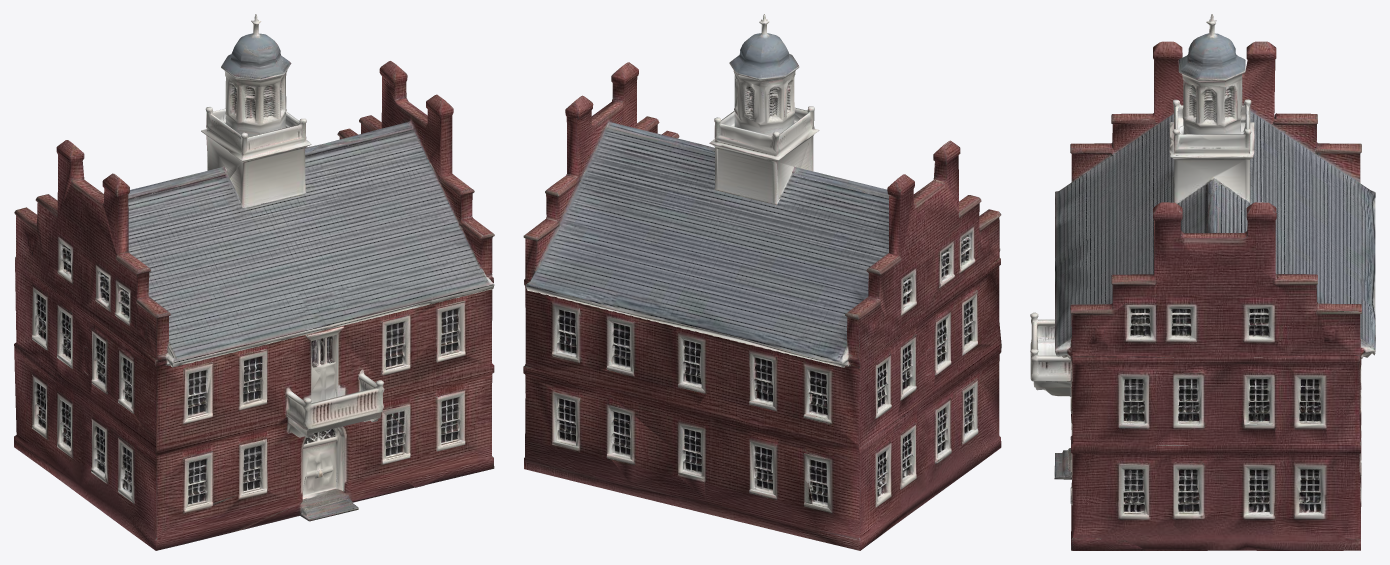
The model's file is bldg-townhouse-civic.glb.
3 views of the same model, side by side, from view 1: azimuth 30°, elevation 25°; view 2: azimuth 150°, elevation 25°; view 3: azimuth 270°, elevation 25° (orthographic). The views are drawn at different scales.
Visible parts, largest first — view 1: Mesh_0; view 2: Mesh_0; view 3: Mesh_0.
Part boxes in pixels (x1=…): Mesh_0: x1=14, y1=14, x2=494, y2=550; Mesh_0: x1=523, y1=14, x2=1001, y2=550; Mesh_0: x1=1030, y1=14, x2=1375, y2=550.
Size of the model in its own units: 1.51 by 1.9 by 1.31.
Materials: 1 (1 with a texture image).
